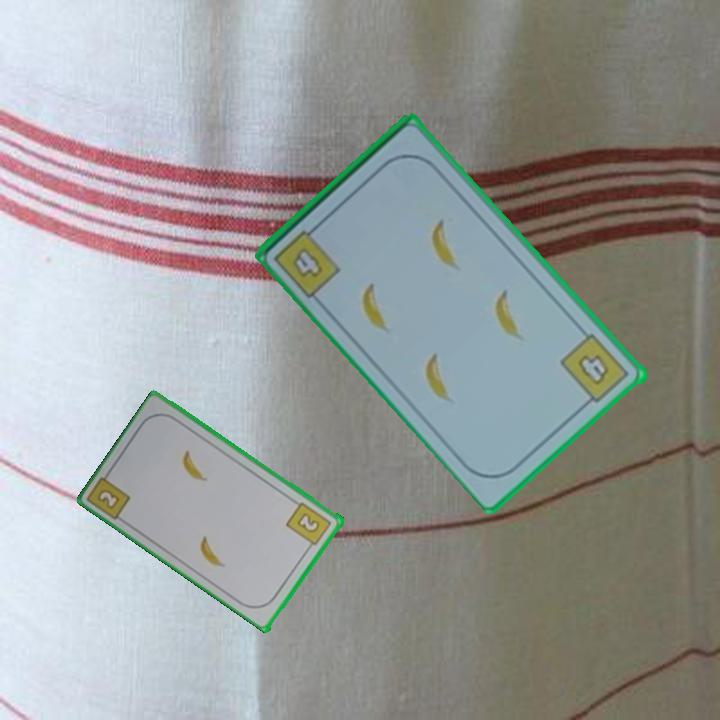2b: (283, 498, 335, 553), (96, 488, 123, 512)
4b: (270, 218, 344, 301), (557, 330, 633, 410)
